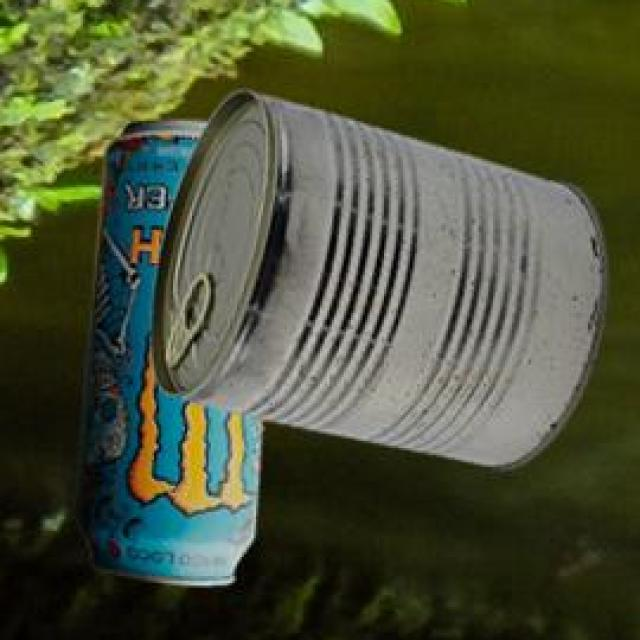logam: (155, 94, 610, 473), (79, 124, 267, 589)
